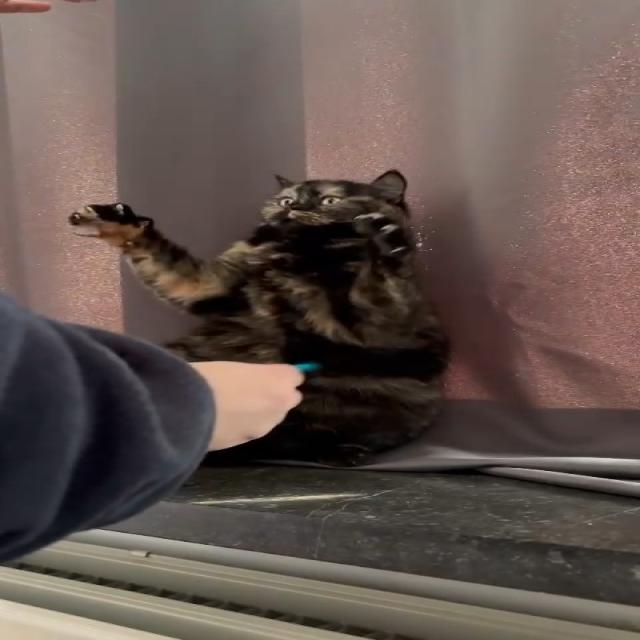authorized: (67, 168, 452, 468)
